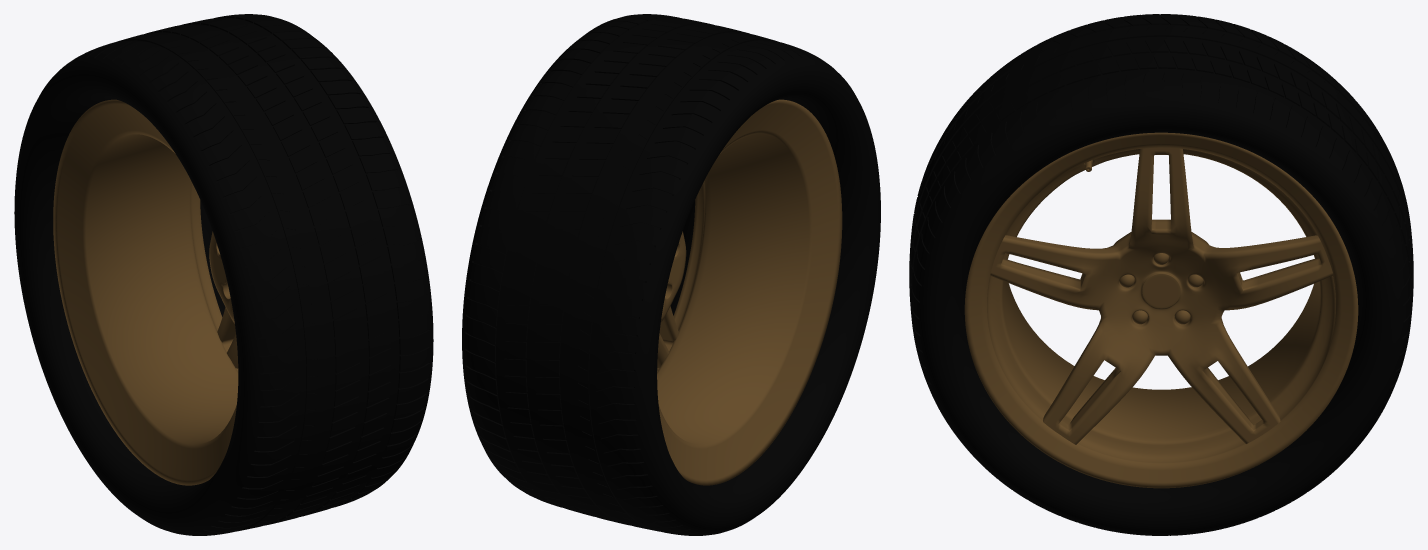
File: wheel3.glb
3 renders of one model, left to right at view 1: azimuth 30°, elevation 25°; view 2: azimuth 150°, elevation 25°; view 3: azimuth 270°, elevation 25°, orthographic.
Visible parts, largest first — view 1: tire; view 2: tire; view 3: tire.
Part boxes in pixels (x1,y1,x2,y2): tire: [14, 14, 433, 535]; tire: [462, 14, 880, 535]; tire: [909, 14, 1413, 535].
Bounding box in the file's own units: 29.94 × 69.93 × 69.94.
